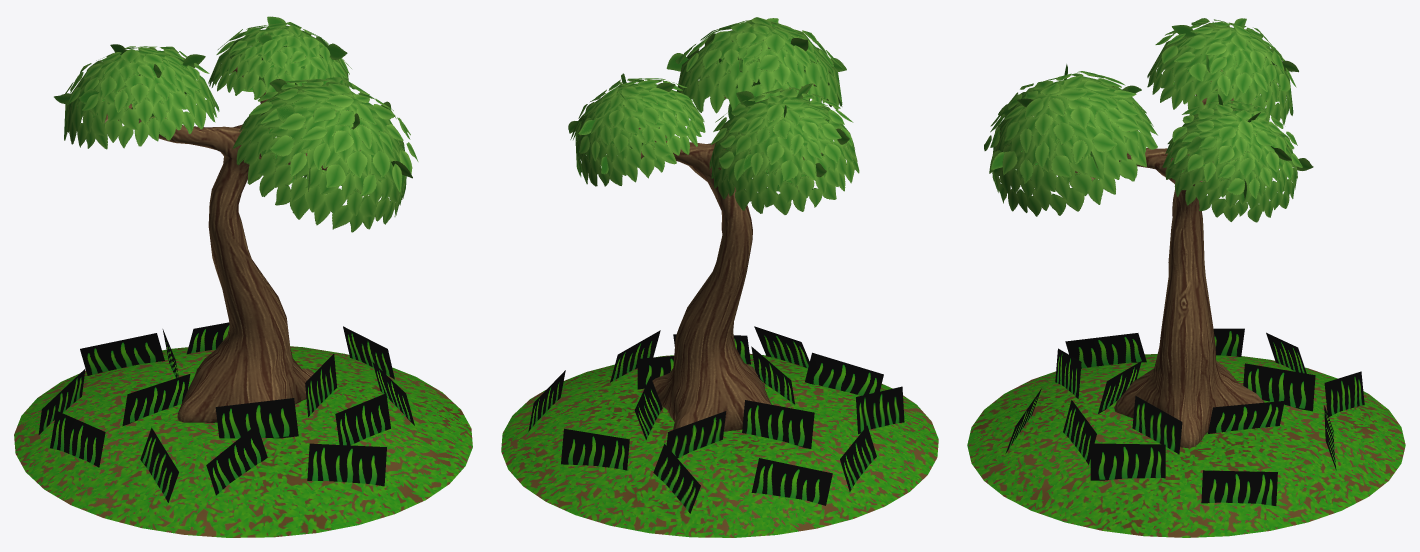
File: Tree.fbx
3 views of the same model, side by side, from view 1: azimuth 30°, elevation 25°; view 2: azimuth 150°, elevation 25°; view 3: azimuth 270°, elevation 25° (orthographic). The views are drawn at different scales.
Parts seen in each view (by area): view 1: Tree01.LP.001, Ground01.Hill, Grass01.LP.014, Grass01.LP.001, Grass01.LP.009, Grass01.LP.002, Grass01.LP.003, Grass01.LP.012, Grass01.LP.010, Grass01.LP.013, Grass01.LP.005, Grass01.LP.015 (+3 smaller); view 2: Tree01.LP.001, Ground01.Hill, Grass01.LP.011, Grass01.LP.010, Grass01.LP.007, Grass01.LP.002, Grass01.LP.013, Grass01.LP.008, Grass01.LP.009, Grass01.LP.012, Grass01.LP.014, Grass01.LP.004 (+4 smaller); view 3: Tree01.LP.001, Ground01.Hill, Grass01.LP.004, Grass01.LP.005, Grass01.LP.008, Grass01.LP.013, Grass01.LP.006, Grass01.LP.015, Grass01.LP.009, Grass01.LP.003, Grass01.LP.002, Grass01.LP.001 (+2 smaller).
Boxes of the visible parts, <box> form: Tree01.LP.001: <box>54,16,418,422</box>; Ground01.Hill: <box>14,346,472,537</box>; Grass01.LP.014: <box>307,443,386,486</box>; Grass01.LP.001: <box>215,398,298,438</box>; Grass01.LP.009: <box>80,333,164,375</box>; Grass01.LP.002: <box>206,424,267,495</box>; Grass01.LP.003: <box>335,393,390,445</box>; Grass01.LP.012: <box>50,410,105,467</box>; Grass01.LP.010: <box>122,374,190,426</box>; Grass01.LP.013: <box>140,427,178,502</box>; Grass01.LP.005: <box>343,326,394,379</box>; Grass01.LP.015: <box>305,354,337,416</box>; Tree01.LP.001: <box>568,17,859,431</box>; Ground01.Hill: <box>501,353,938,537</box>; Grass01.LP.011: <box>751,458,832,505</box>; Grass01.LP.010: <box>742,400,814,448</box>; Grass01.LP.007: <box>561,428,629,470</box>; Grass01.LP.002: <box>805,352,883,395</box>; Grass01.LP.013: <box>856,386,904,434</box>; Grass01.LP.008: <box>666,411,726,458</box>; Grass01.LP.009: <box>653,444,700,513</box>; Grass01.LP.012: <box>840,425,876,491</box>; Grass01.LP.014: <box>754,326,809,368</box>; Grass01.LP.004: <box>610,330,660,382</box>; Tree01.LP.001: <box>984,18,1313,447</box>; Ground01.Hill: <box>967,354,1405,537</box>; Grass01.LP.004: <box>1090,443,1165,480</box>; Grass01.LP.005: <box>1201,470,1277,505</box>; Grass01.LP.008: <box>1243,363,1315,411</box>; Grass01.LP.013: <box>1065,333,1146,368</box>; Grass01.LP.006: <box>1208,401,1284,433</box>; Grass01.LP.015: <box>1132,396,1182,454</box>; Grass01.LP.009: <box>1324,371,1364,416</box>; Grass01.LP.003: <box>1063,400,1096,464</box>; Grass01.LP.002: <box>1055,348,1081,398</box>; Grass01.LP.001: <box>1098,361,1141,413</box>.
Size of the model in its own units: 351 by 342 by 351.
